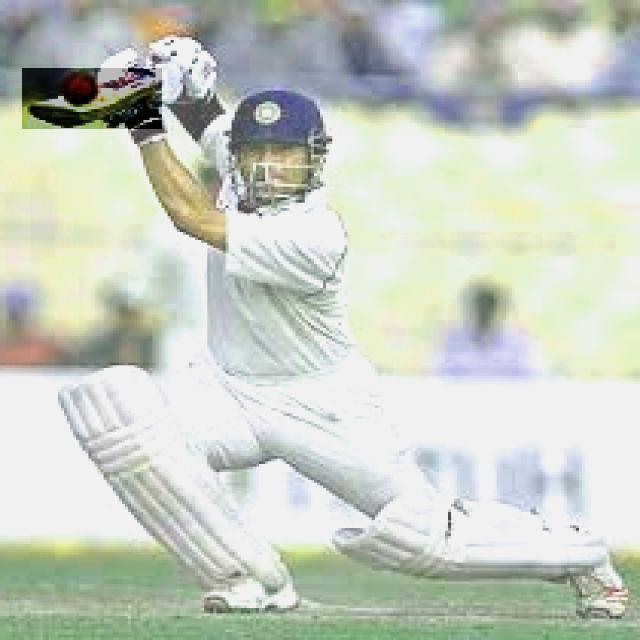bat: (25, 68, 161, 128)
toe: (30, 105, 87, 128)
